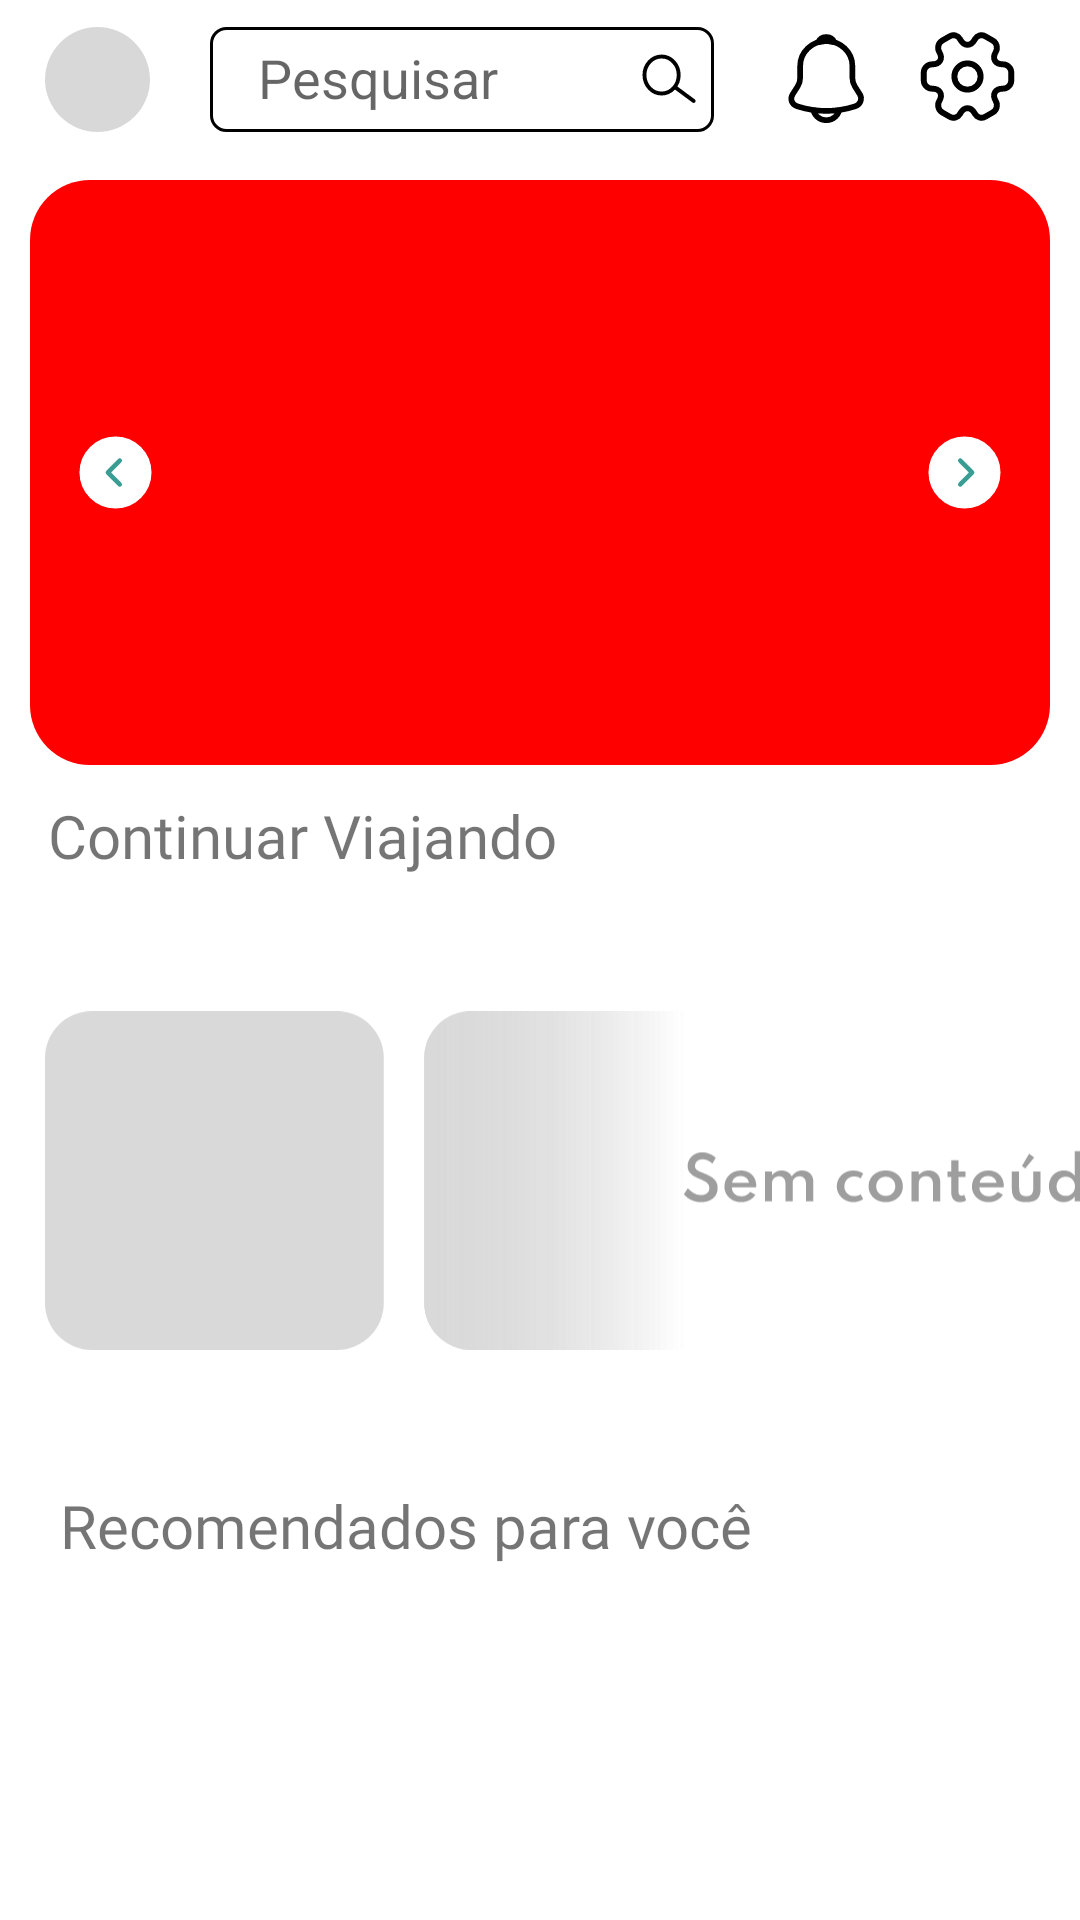

Icon bounding boxes for this 1080*1920 phone screenshot, format BBox(x1, y1, x2, y2):
iconlupa: BBox(642, 54, 696, 103)
